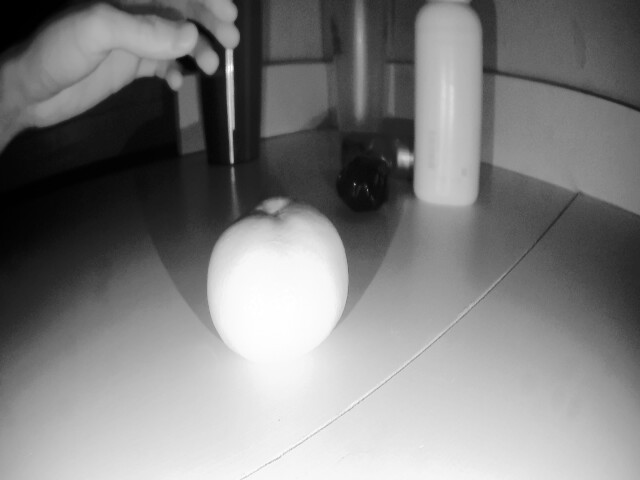black: (339, 153, 383, 204)
